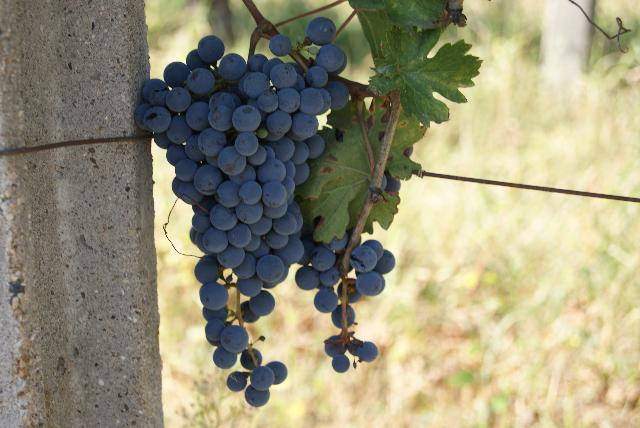grapes: (135, 20, 345, 406), (295, 234, 395, 372)
